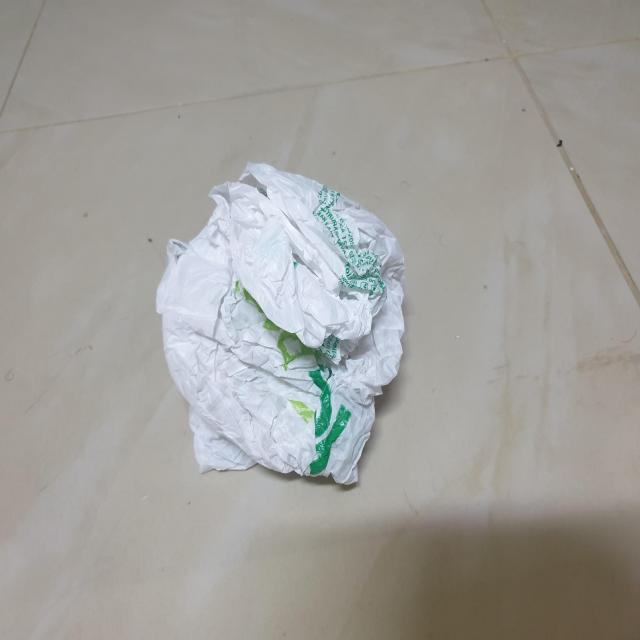plastic bag: (149, 154, 411, 496)
